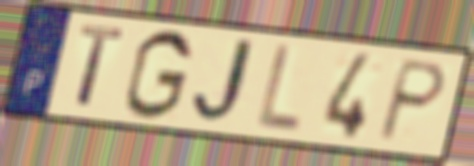4: (320, 49, 374, 141)
G: (121, 27, 195, 123)
J: (189, 36, 263, 127)
L: (253, 41, 304, 137)
P: (374, 56, 450, 145)
T: (75, 21, 129, 112)
